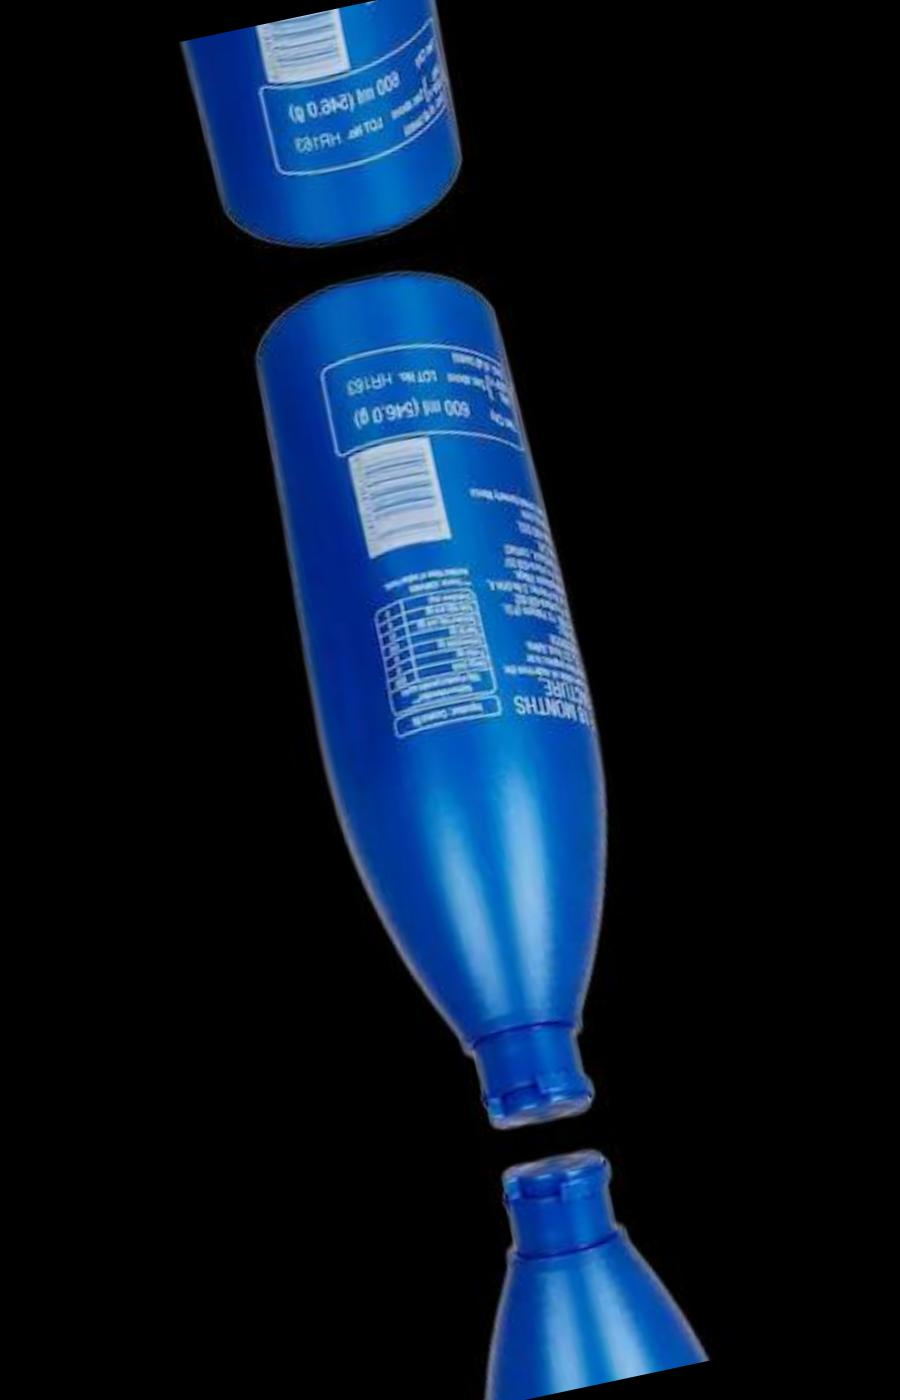Parachute Coconut Oil 600 ml - Bottle: (232, 264, 664, 1156), (415, 1124, 720, 1400), (173, 0, 474, 256)
